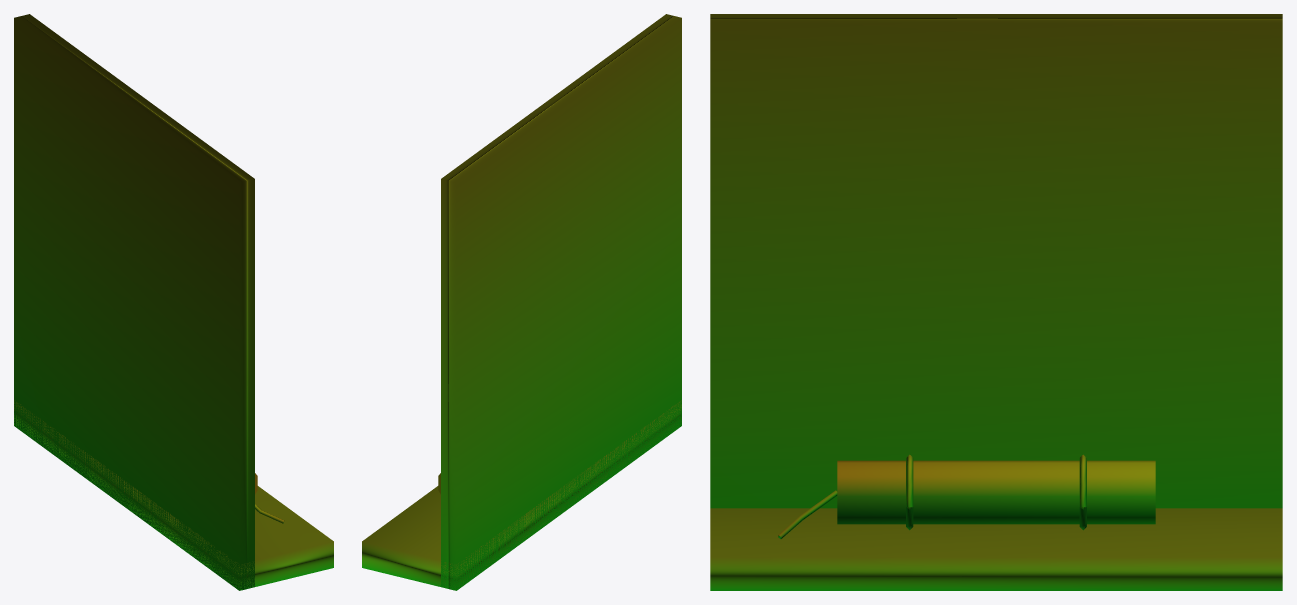
Rendered from lamp_niche.glb.
3 renders of one model, left to right at view 1: azimuth 30°, elevation 25°; view 2: azimuth 150°, elevation 25°; view 3: azimuth 270°, elevation 25°, orthographic. The views are drawn at different scales.
Visible parts, largest first — view 1: lamp_niche; view 2: lamp_niche; view 3: lamp_niche.
Part boxes in pixels (bbox=[...]): lamp_niche: bbox=[14, 14, 333, 590]; lamp_niche: bbox=[362, 14, 681, 590]; lamp_niche: bbox=[710, 14, 1282, 590].
Size of what is drawn, in the model's own units: 0.1915 by 0.7915 by 0.7915.
